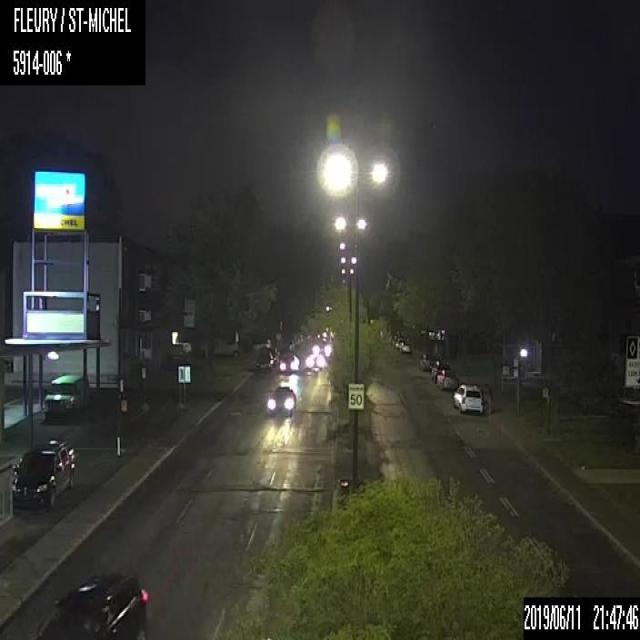vehicle: (33, 573, 151, 639), (11, 436, 76, 509), (41, 371, 91, 419), (452, 379, 484, 413), (264, 386, 296, 417), (252, 344, 276, 371), (211, 337, 241, 357), (435, 365, 458, 389), (278, 354, 300, 374), (419, 349, 438, 372), (306, 353, 324, 372), (398, 341, 413, 354)
